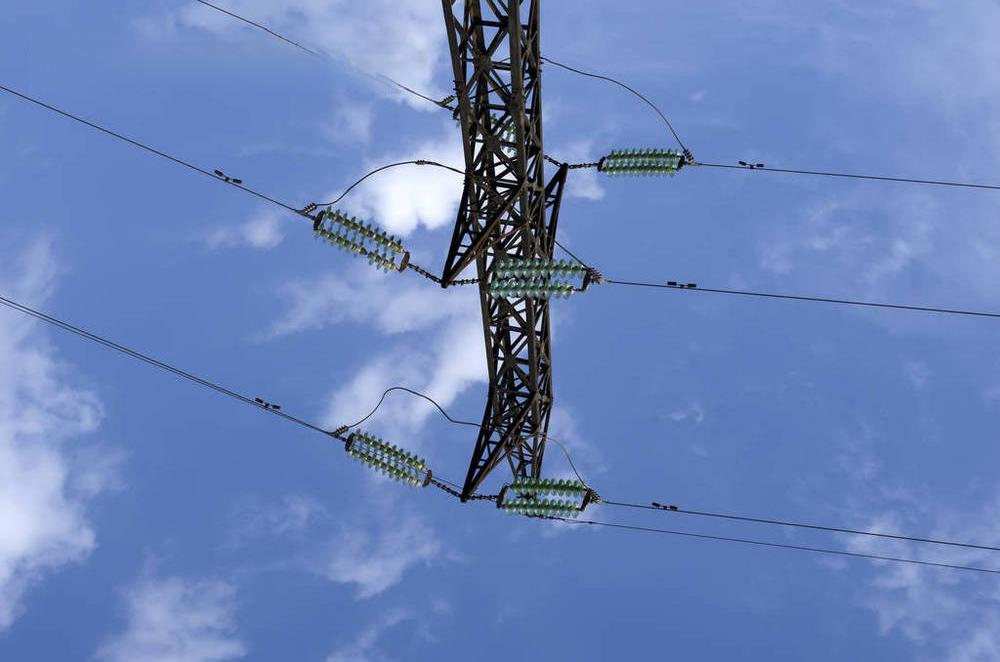insulator: (344, 428, 433, 490), (317, 203, 406, 258), (310, 220, 397, 275), (601, 144, 685, 180), (491, 256, 590, 282), (507, 473, 591, 501), (497, 495, 584, 522), (486, 276, 576, 302)
insulator_stringdrop: (351, 239, 381, 268)
